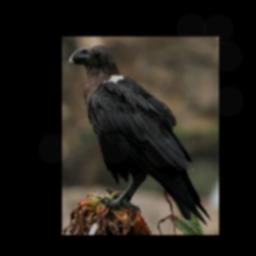Crow: (71, 43, 212, 226)
